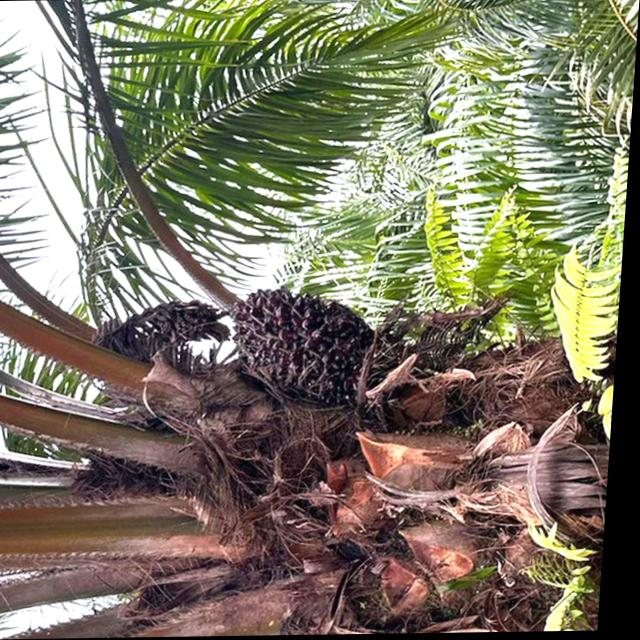ripe: (219, 281, 387, 406)
